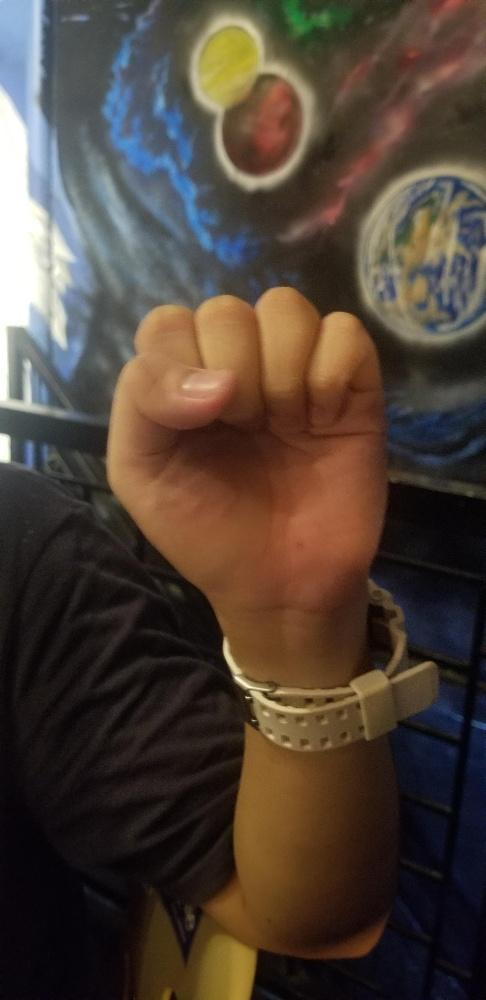s: (99, 286, 386, 561)
